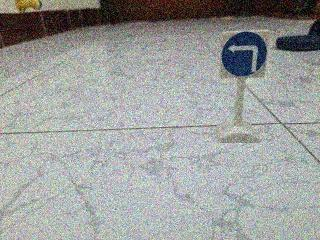left: (219, 30, 270, 79)
